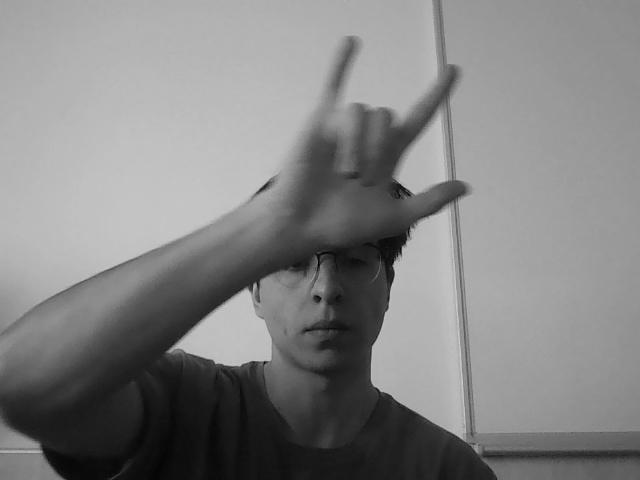I_Love_You: (299, 36, 467, 253)
